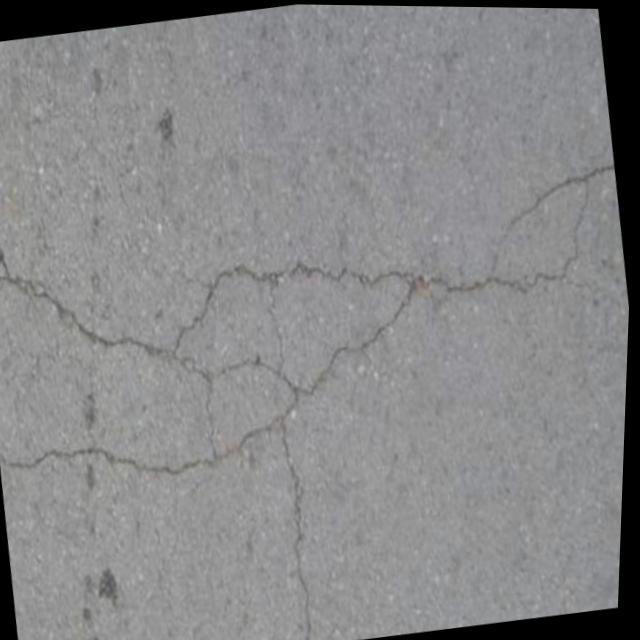Crack: (0, 199, 485, 640), (420, 149, 632, 308), (0, 111, 22, 284)
